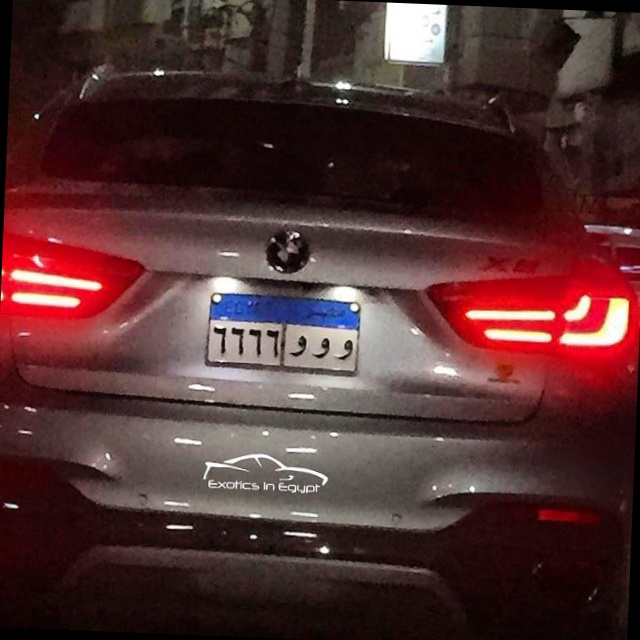License Plate: (201, 289, 365, 380)
